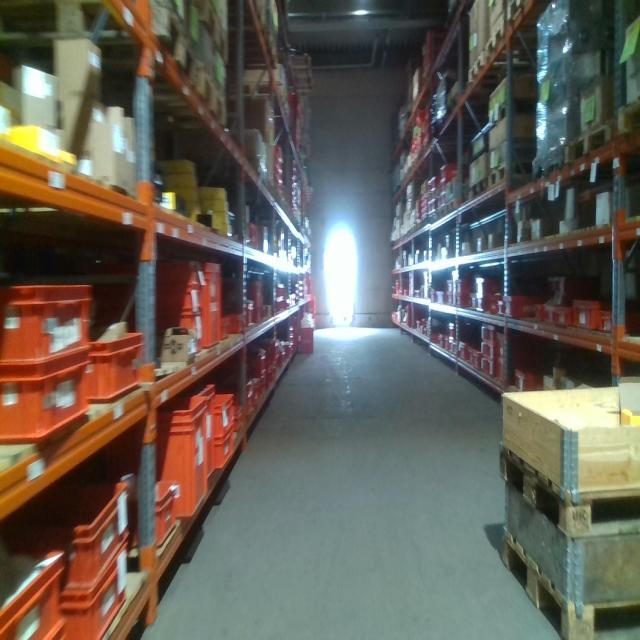pallet: (502, 525, 639, 637), (497, 440, 639, 539), (561, 111, 618, 169), (160, 7, 198, 78), (487, 157, 542, 194), (487, 96, 536, 128), (203, 68, 226, 125), (616, 101, 639, 139), (488, 23, 507, 69), (506, 3, 533, 32), (468, 171, 488, 202), (466, 55, 485, 87), (244, 83, 273, 99)
small_load_carrier: (109, 394, 210, 518), (15, 479, 126, 589), (1, 351, 86, 446), (1, 280, 89, 362), (123, 480, 183, 559), (61, 561, 125, 634), (86, 327, 140, 404), (16, 544, 59, 634), (147, 314, 204, 358), (199, 261, 224, 354), (135, 261, 207, 292), (138, 286, 204, 315), (574, 298, 602, 337), (210, 392, 234, 434), (214, 430, 236, 468), (507, 295, 536, 322), (513, 365, 540, 390), (476, 279, 499, 301), (482, 354, 502, 378), (555, 306, 575, 328), (480, 322, 501, 341), (467, 346, 482, 371), (600, 307, 612, 337), (482, 339, 502, 354), (475, 296, 489, 315), (455, 278, 470, 295), (451, 323, 462, 342), (545, 305, 555, 323), (499, 301, 509, 319), (537, 305, 546, 324), (460, 338, 467, 359), (491, 296, 500, 312), (455, 292, 466, 305), (446, 280, 452, 301), (444, 335, 450, 349)
